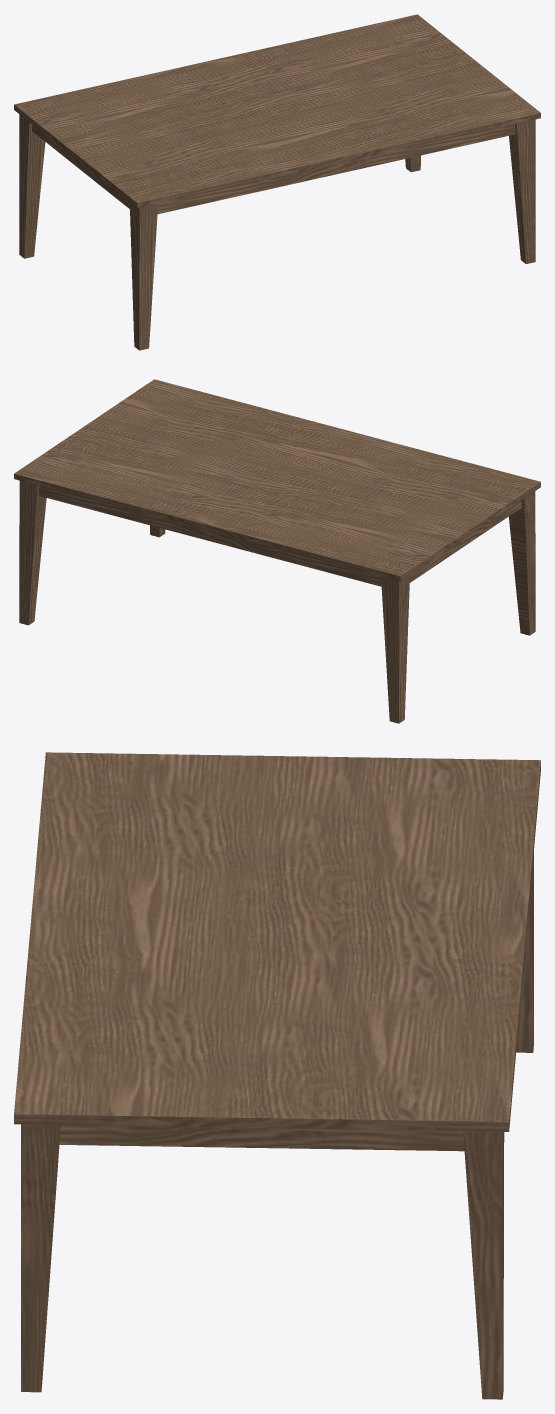
3 renders of one model, top to bottom at view 1: azimuth 30°, elevation 25°; view 2: azimuth 150°, elevation 25°; view 3: azimuth 270°, elevation 25°, orthographic. The views are drawn at different scales.
Parts seen in each view (by area): view 1: Table_13006_Wood_08003_0; view 2: Table_13006_Wood_08003_0; view 3: Table_13006_Wood_08003_0.
Boxes of the visible parts, x1=… form: Table_13006_Wood_08003_0: x1=14, y1=14, x2=540, y2=350; Table_13006_Wood_08003_0: x1=14, y1=379, x2=540, y2=723; Table_13006_Wood_08003_0: x1=14, y1=752, x2=540, y2=1399.
Size of the model in its own units: 2.31 by 0.8168 by 1.39.
Materials: 1 (1 with a texture image).
